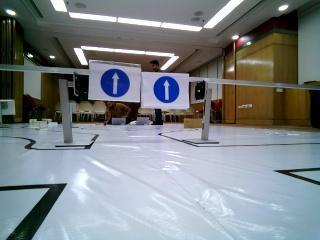straight: (89, 62, 139, 101), (140, 70, 190, 107)
